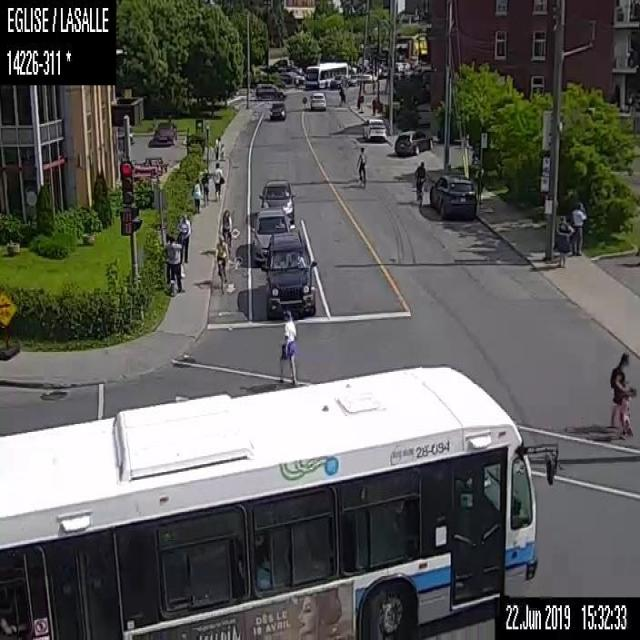bus: (0, 362, 557, 638), (304, 60, 348, 89)
cyclist: (215, 236, 232, 294), (219, 208, 235, 252), (414, 161, 424, 212)
pedestrian: (608, 352, 636, 437), (278, 311, 296, 384), (552, 214, 574, 266), (570, 201, 585, 267), (165, 232, 181, 290), (176, 213, 190, 262), (209, 159, 224, 204), (199, 165, 211, 209), (356, 146, 366, 190), (211, 132, 221, 166), (193, 178, 203, 211), (338, 88, 346, 107), (219, 141, 225, 166), (371, 94, 376, 118)
vehicle: (260, 228, 319, 318), (248, 206, 293, 266), (428, 173, 476, 220), (256, 178, 297, 223), (394, 126, 436, 154), (153, 119, 177, 145), (360, 116, 385, 140), (253, 81, 286, 98), (268, 100, 286, 120), (308, 90, 326, 110), (330, 74, 348, 88)
